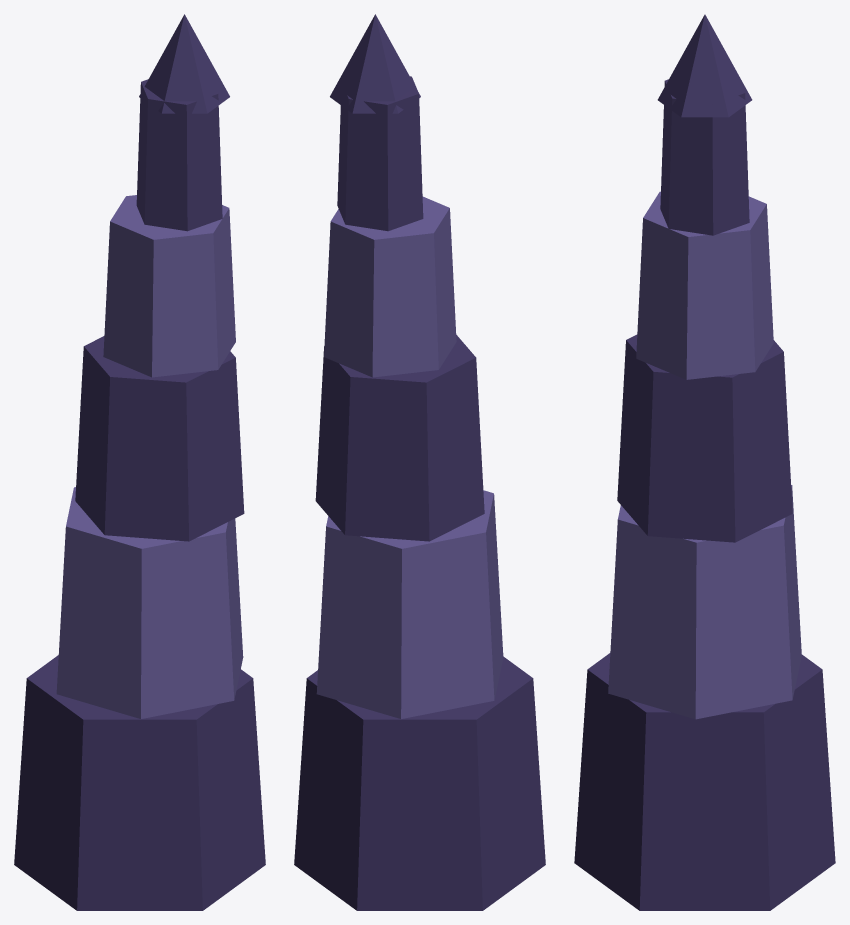
File: Alien_Rock_Spire.obj
3 renders of one model, left to right at view 1: azimuth 30°, elevation 25°; view 2: azimuth 150°, elevation 25°; view 3: azimuth 270°, elevation 25°, orthographic. The views are drawn at different scales.
Parts seen in each view (by area): view 1: Alien_Rock_Spire; view 2: Alien_Rock_Spire; view 3: Alien_Rock_Spire.
Boxes of the visible parts, <box> form: Alien_Rock_Spire: <box>14,14,265,910</box>; Alien_Rock_Spire: <box>294,14,545,910</box>; Alien_Rock_Spire: <box>574,14,835,910</box>.
Size of the model in its own units: 1.95 by 8.1 by 2.2.
1 material, 1 textured.
